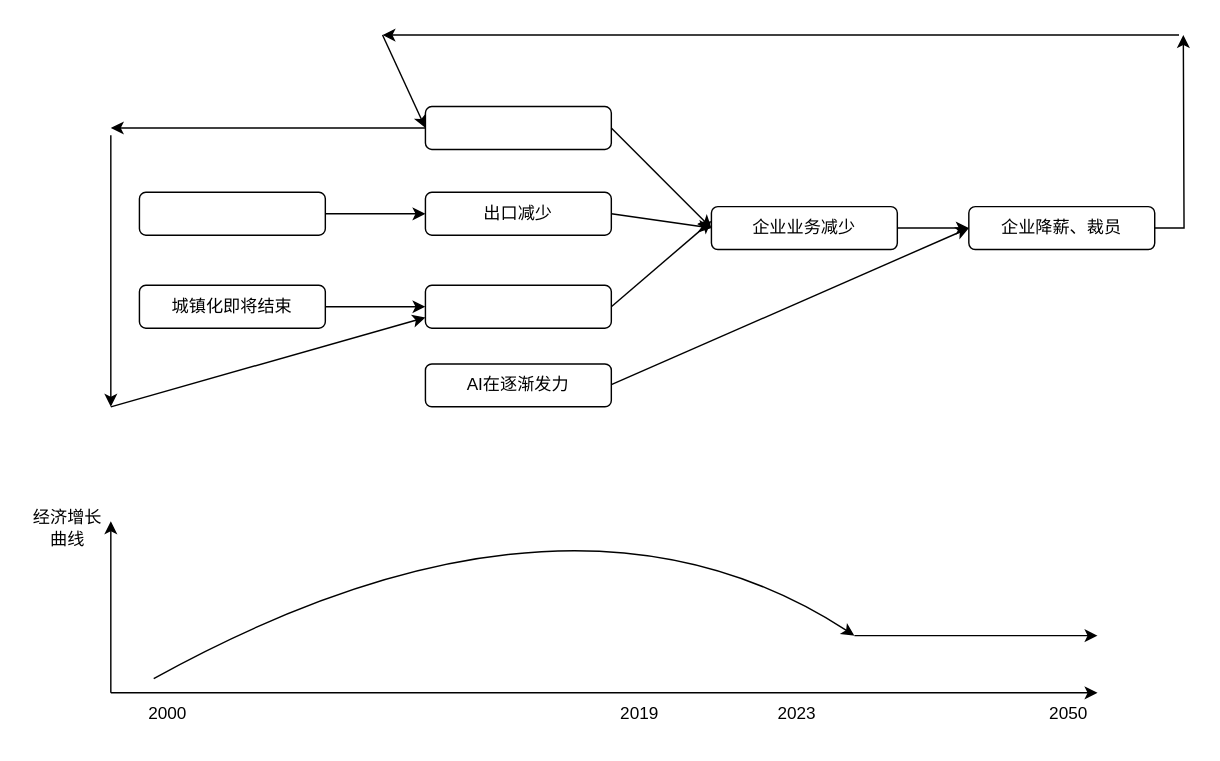
The diagram is 1220 pixels wide and 761 high, and some of its shapes have lost their labels. The box of each missing label's shape, as (x1, y1, x2, y2) in pixels:
居民消费降低: (424, 105, 611, 149)
房地产行业不景气: (424, 284, 611, 328)
贸易战: (138, 191, 325, 235)
